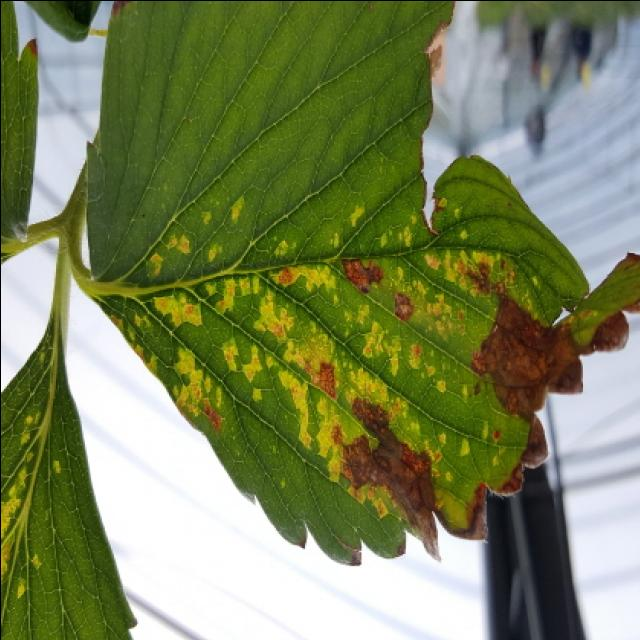Angular Leafspot: (97, 2, 638, 568), (0, 311, 138, 640)
